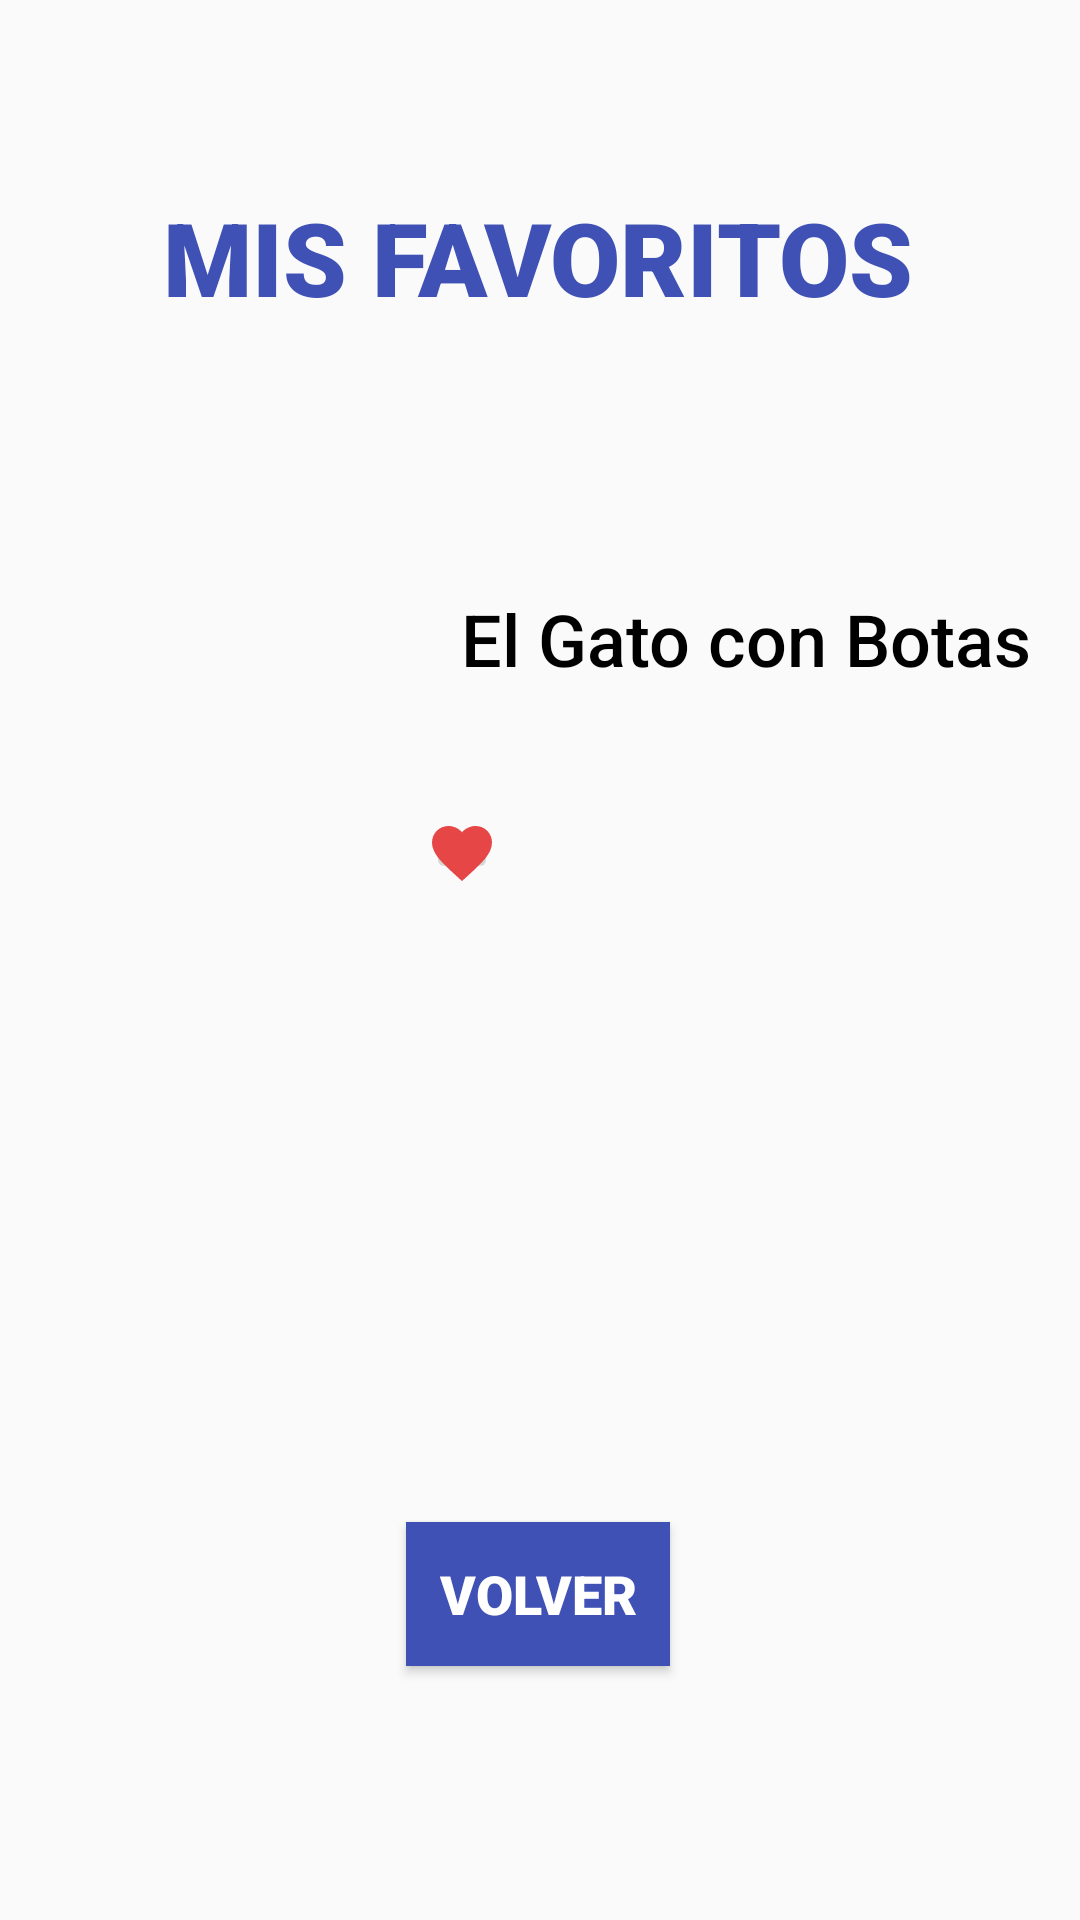

Icon bounding boxes for this 1080 x 1920 phone screenshot, format (x1, y1, x2, y2):
favorite: (432, 826, 492, 881)
